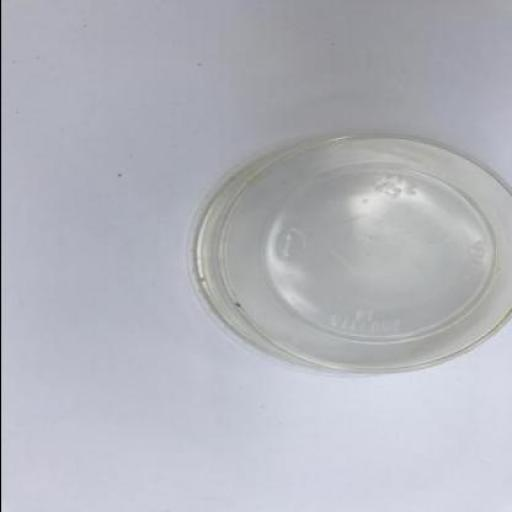plastic: (196, 134, 510, 368), (218, 134, 511, 376)
